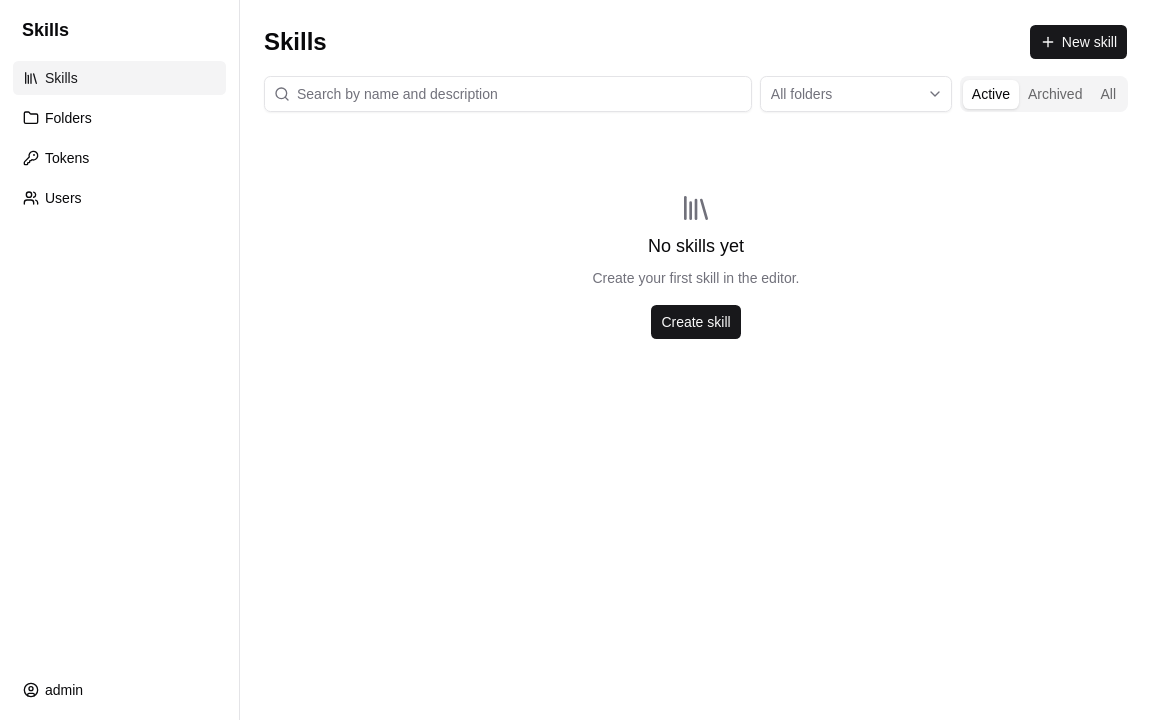
app shell › "Sign out" logs out and goes to /login
What coordinates should you click on to do the following:
click the button "admin"
I would click on:
 (120, 690)
Its box is [12, 672, 227, 708].
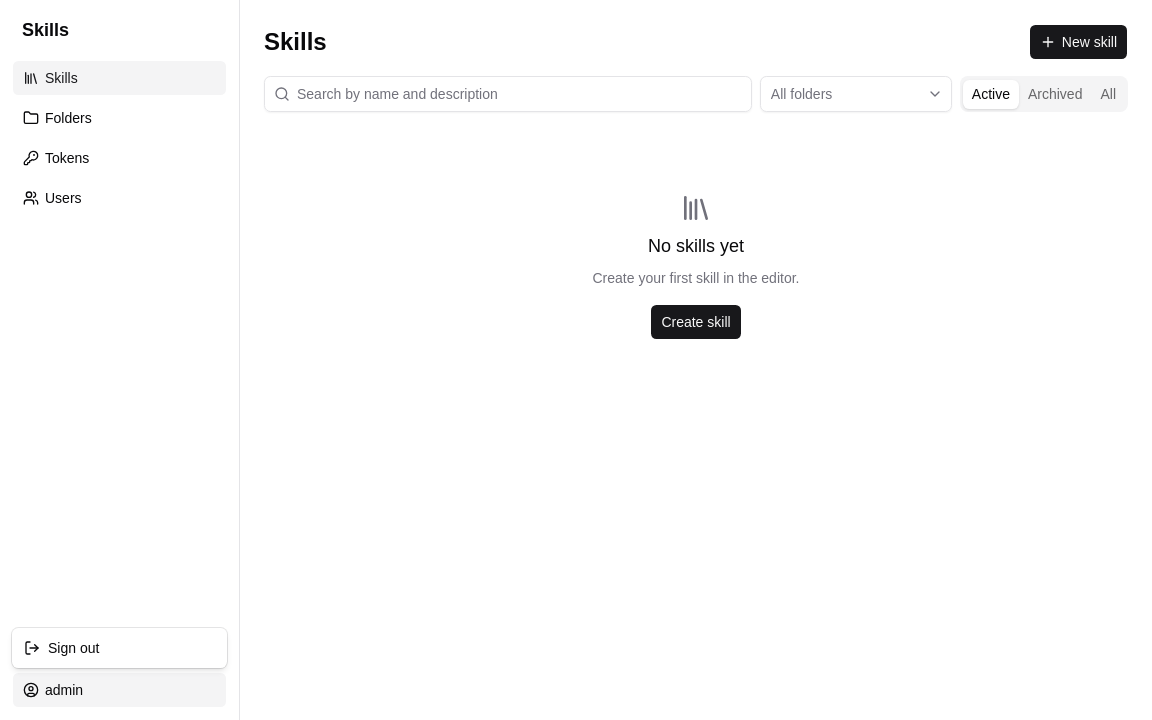
What coordinates should you click on to do the following:
click the menu item "Sign out"
I would click on:
 (62, 648)
Its box is [24, 640, 99, 656].
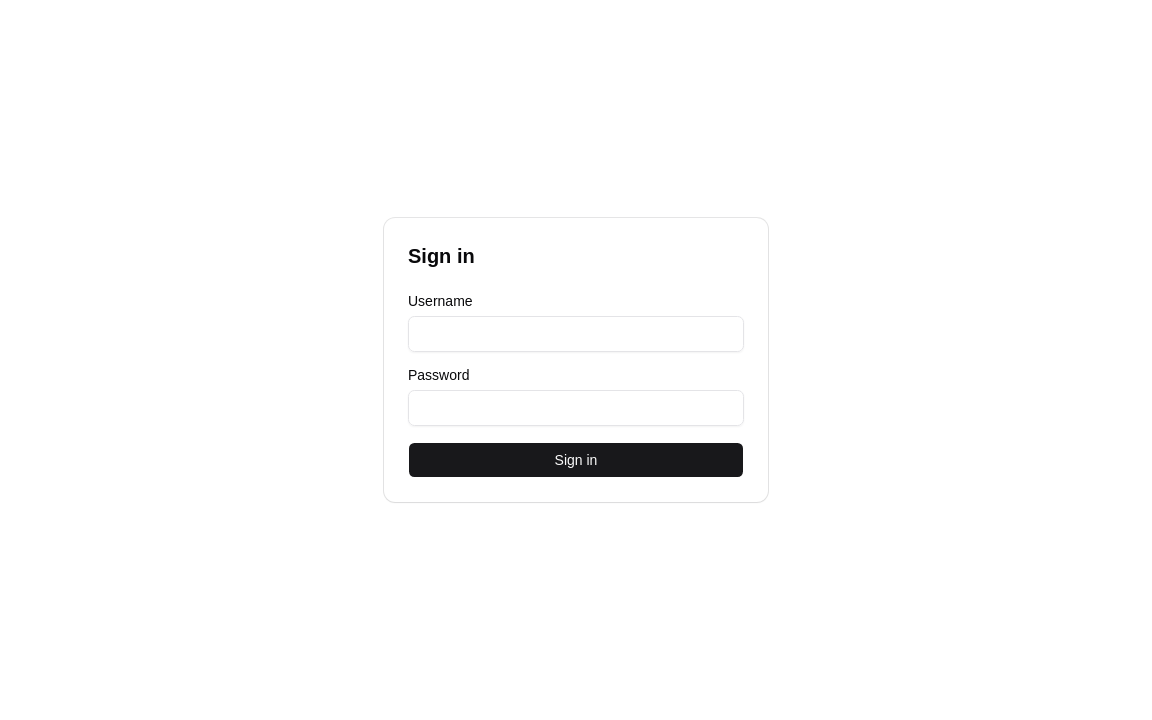
Check: the button "Sign in" is shown, box [408, 442, 744, 478]
